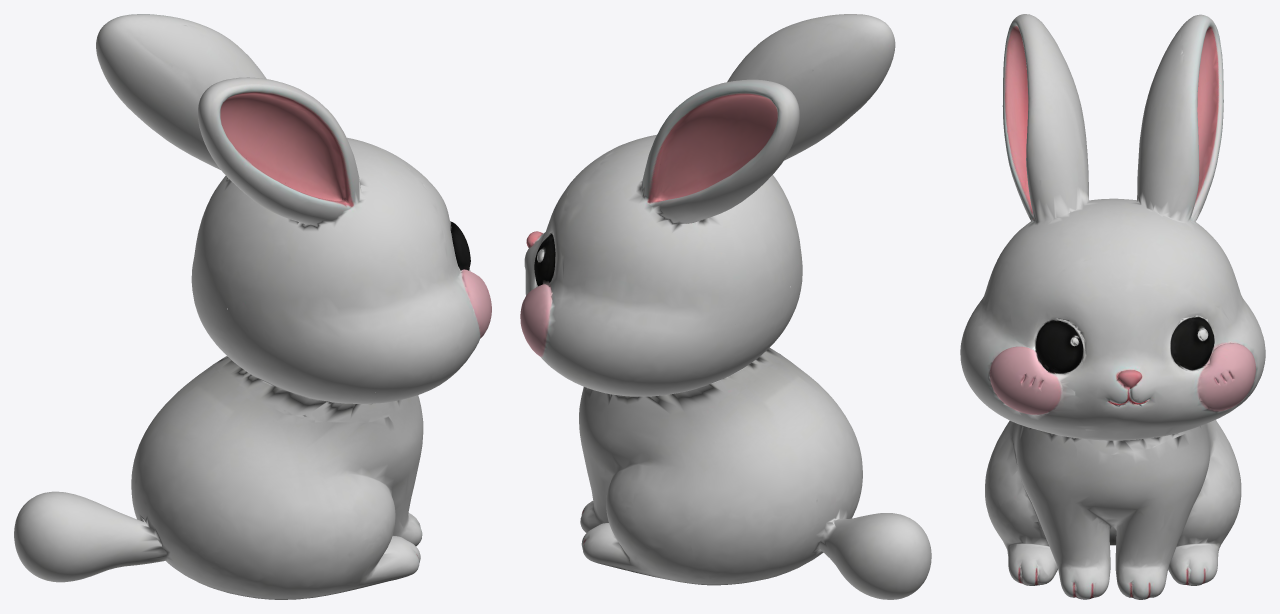
3 views of the same model, side by side, from view 1: azimuth 30°, elevation 25°; view 2: azimuth 150°, elevation 25°; view 3: azimuth 270°, elevation 25° (orthographic). The views are drawn at different scales.
Visible parts, largest first — view 1: tripo_node_08d774e3-975a-4d77-8294-0854ba798b22_AnimatedRoot; view 2: tripo_node_08d774e3-975a-4d77-8294-0854ba798b22_AnimatedRoot; view 3: tripo_node_08d774e3-975a-4d77-8294-0854ba798b22_AnimatedRoot.
Part boxes in pixels (x1,y1,x2,y2): tripo_node_08d774e3-975a-4d77-8294-0854ba798b22_AnimatedRoot: [14, 14, 491, 599]; tripo_node_08d774e3-975a-4d77-8294-0854ba798b22_AnimatedRoot: [520, 14, 931, 599]; tripo_node_08d774e3-975a-4d77-8294-0854ba798b22_AnimatedRoot: [960, 14, 1265, 599].
Bounding box in the file's own units: 0.1667 × 0.2 × 0.1143.
1 material, 1 textured.
